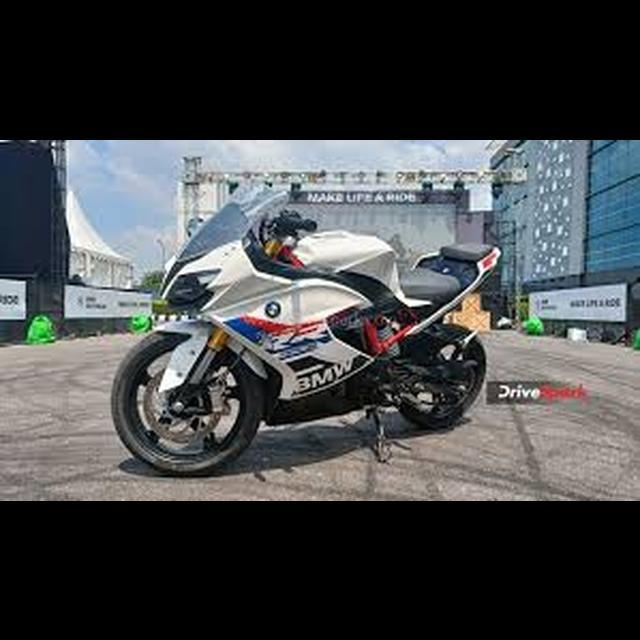motorcycle: (107, 171, 506, 481)
